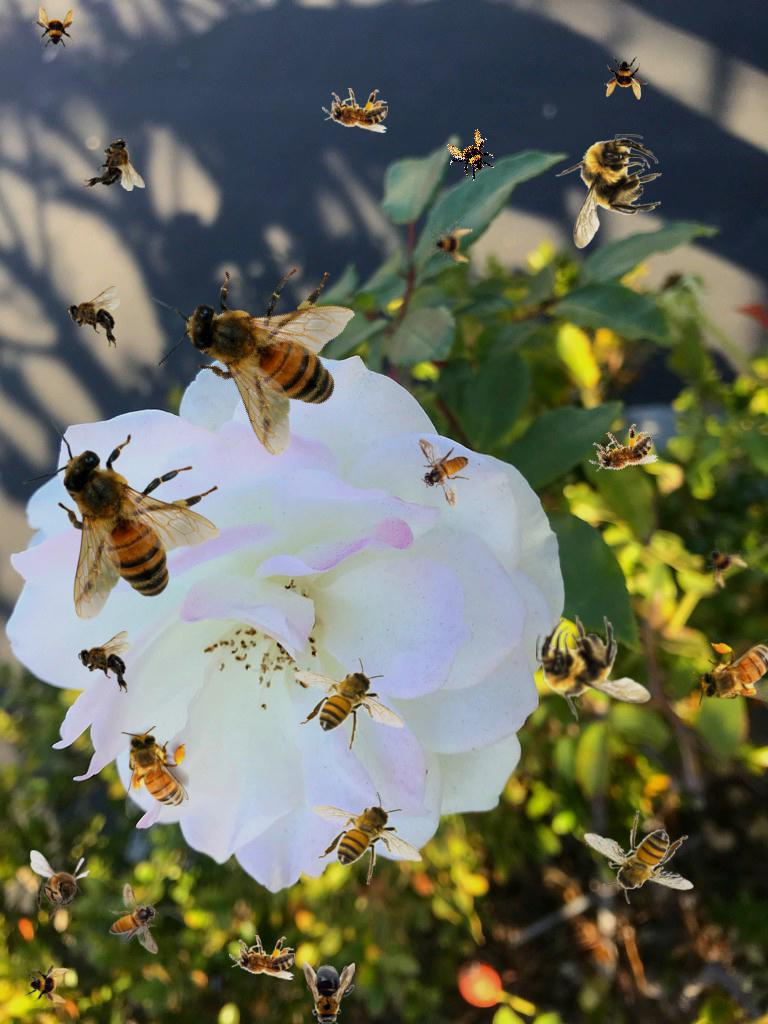Bee: (123, 210, 398, 488), (21, 417, 220, 621), (536, 615, 651, 722), (555, 134, 662, 249), (294, 657, 405, 751), (583, 810, 694, 904), (312, 791, 423, 885), (121, 726, 189, 819), (581, 418, 661, 485), (693, 639, 768, 707), (30, 850, 91, 920), (692, 530, 756, 594), (418, 435, 472, 510), (440, 125, 502, 187), (109, 883, 159, 954), (67, 286, 120, 348), (78, 631, 131, 693), (83, 138, 145, 191), (303, 961, 355, 1024), (229, 935, 295, 980), (322, 88, 388, 133), (604, 56, 648, 100), (429, 221, 473, 265), (32, 6, 76, 50), (25, 961, 69, 1005)
